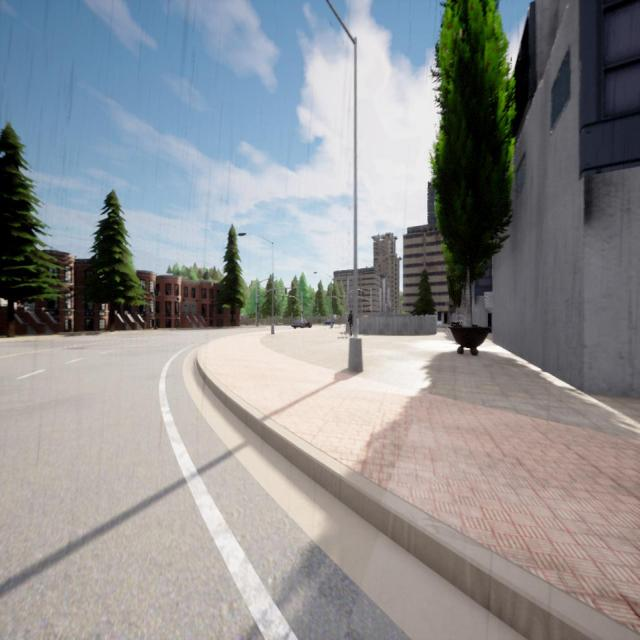Pedestrian: (348, 310, 353, 336)
Vehicle: (291, 317, 312, 329), (323, 318, 335, 326)
traffic_light: (285, 289, 287, 294), (274, 290, 276, 294), (295, 288, 296, 292)
